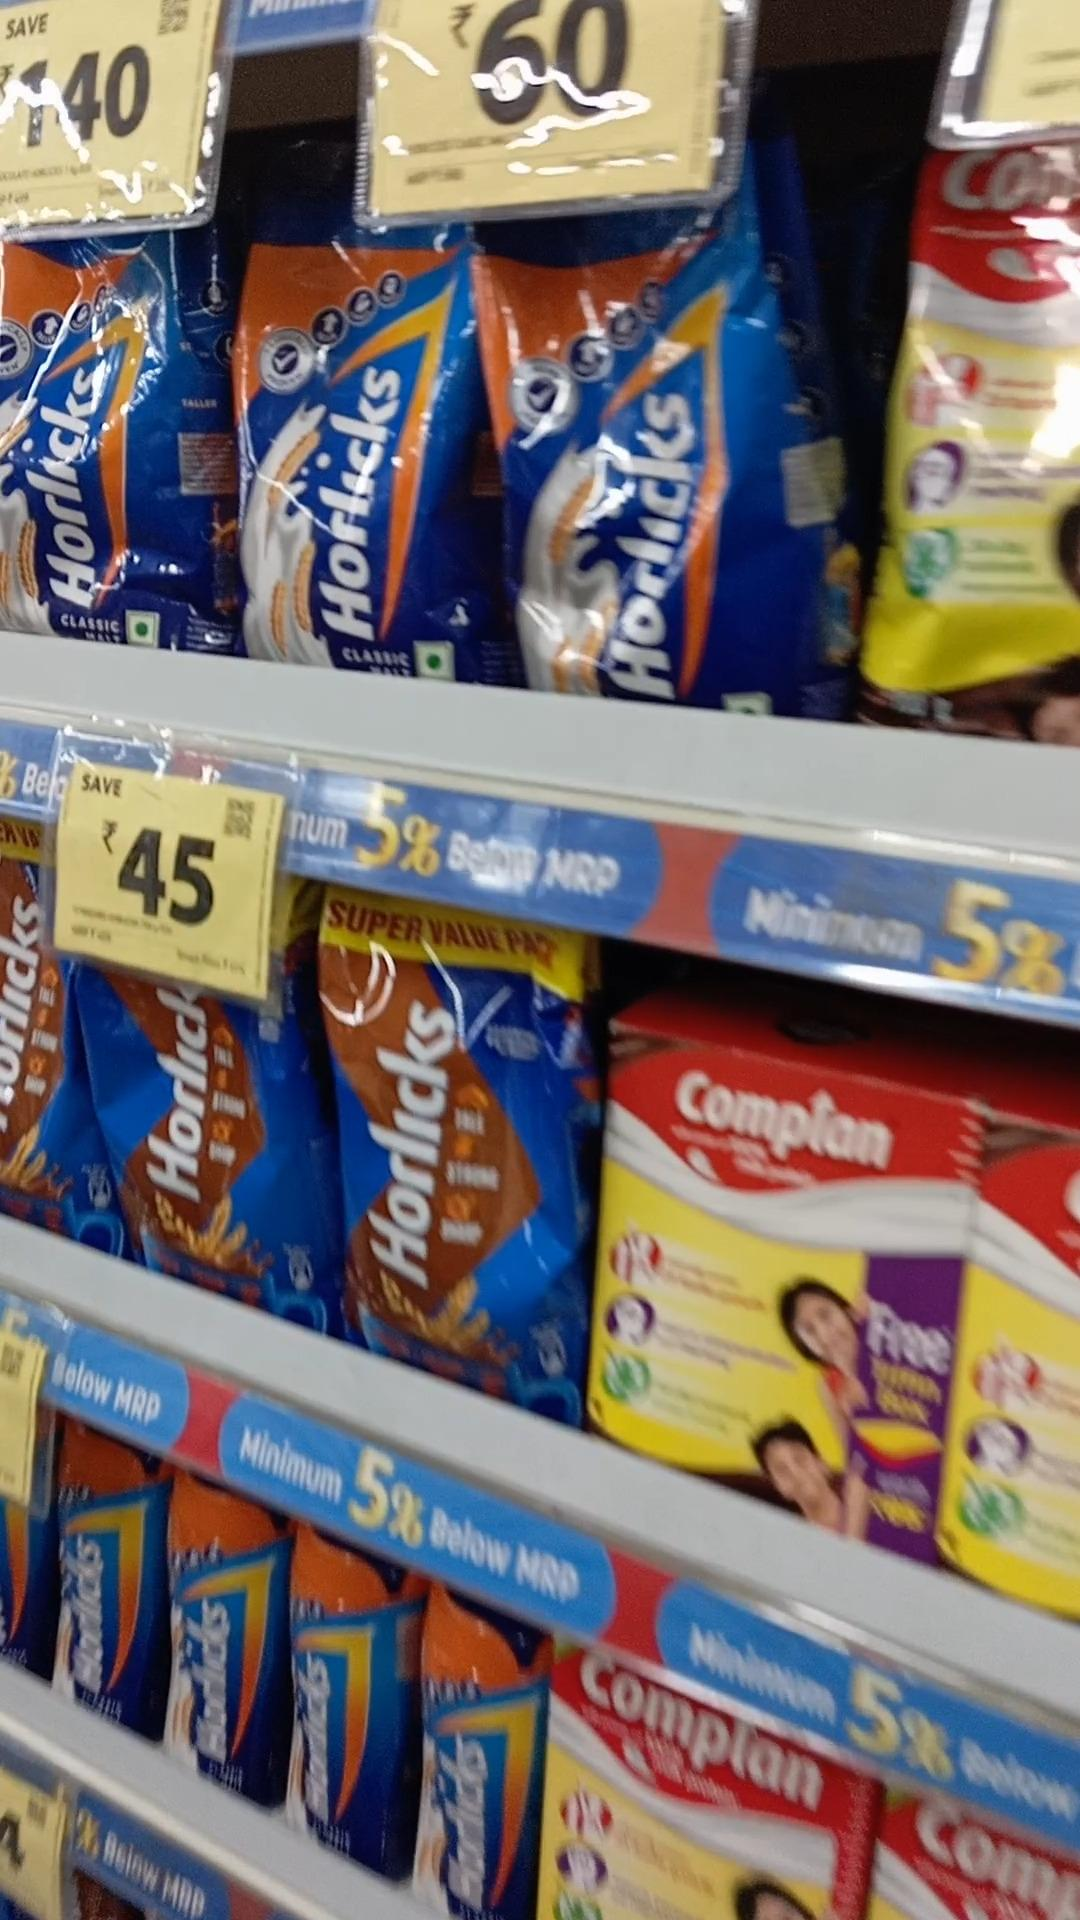COMPLAN_CHOCOLATE_500_GMS_PACK: (605, 1034, 931, 1535)
HORLICK_CHOCOLATE_750_G_POUCH: (328, 920, 574, 1389), (98, 968, 315, 1299)
HORLICK_CLASSIC_MALT_500_G_JAR: (413, 1614, 537, 1920), (289, 1519, 397, 1857), (47, 1410, 158, 1730), (166, 1468, 270, 1783)
HORLICK_CLASSIC_MALT_750_G_POUCH: (492, 208, 820, 715), (249, 255, 476, 675)
